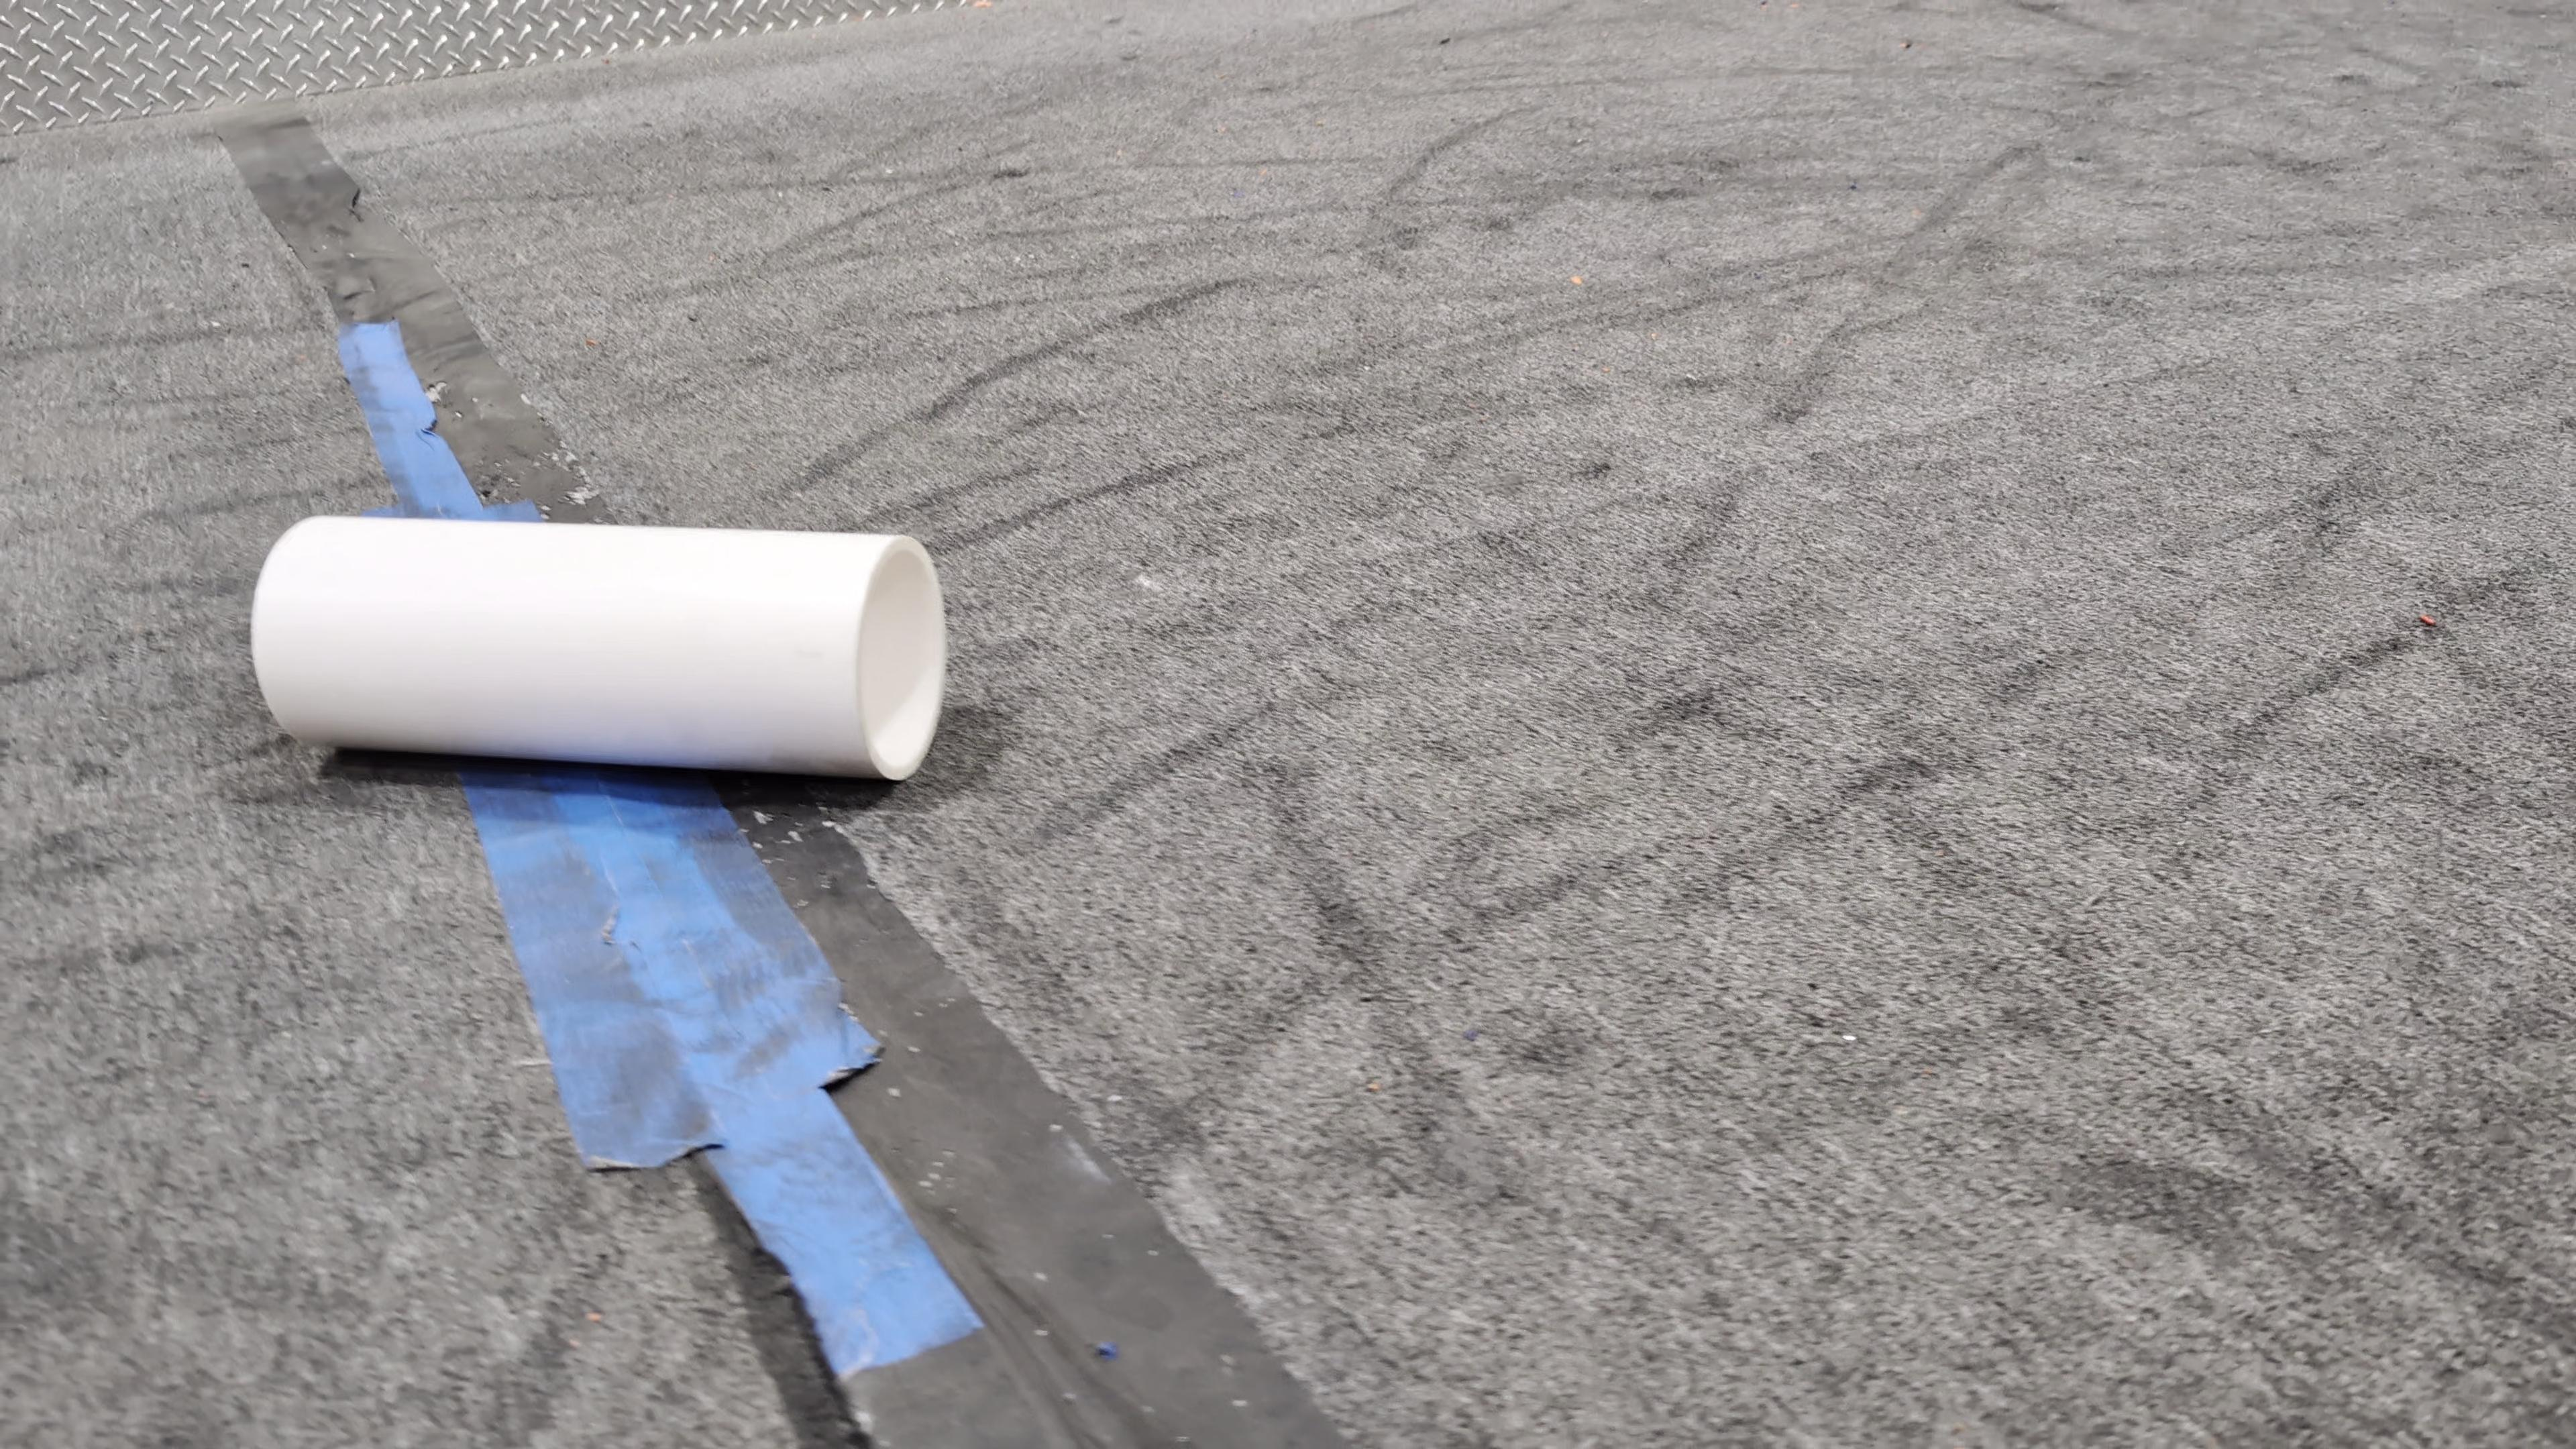coral: (248, 508, 950, 782)
